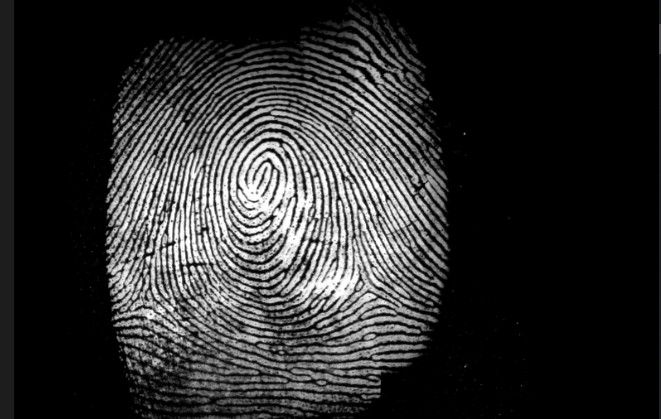nucelo: (242, 151, 287, 213)
verticilo: (349, 267, 384, 299), (133, 277, 161, 309)
